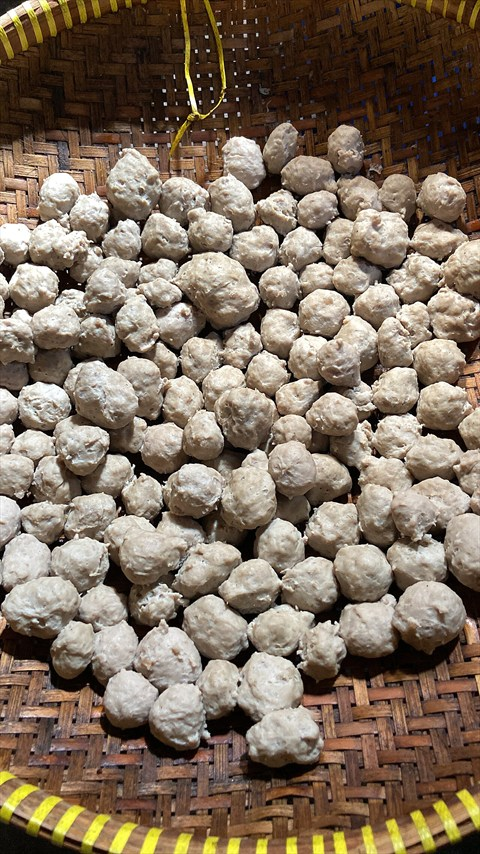Bakso: (22, 162, 440, 699)
